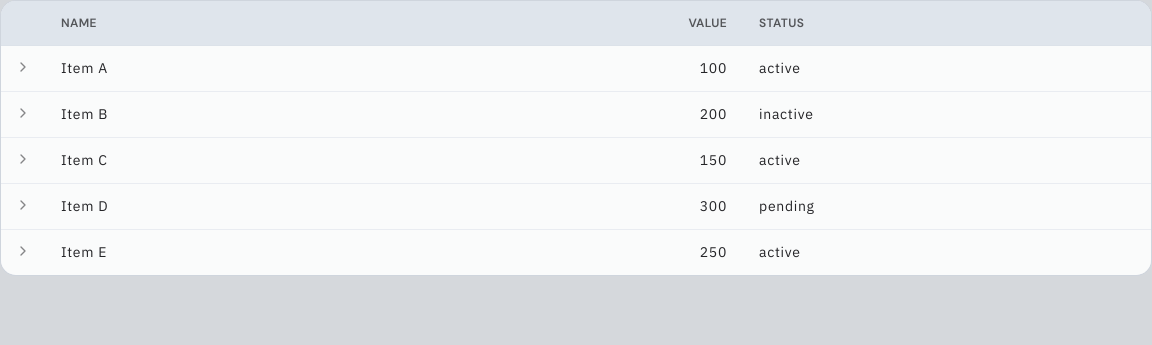
Test: DataGrid › Row Expansion › expands row on button click
What coordinates should you click on to do the following:
click the button named "Expandir fila" next to "Item A"
I would click on:
 (23, 67)
Its box is [11,55,35,79].
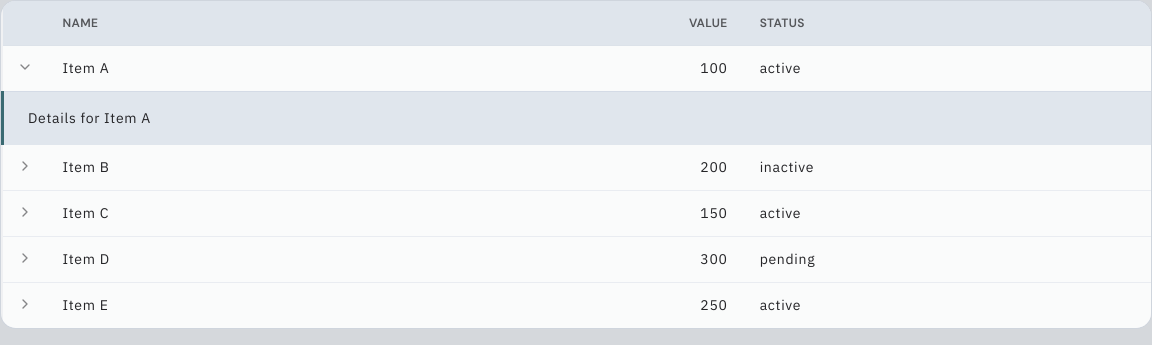
Expected: the text "Details for Item A" is shown, [28,108,151,126]
